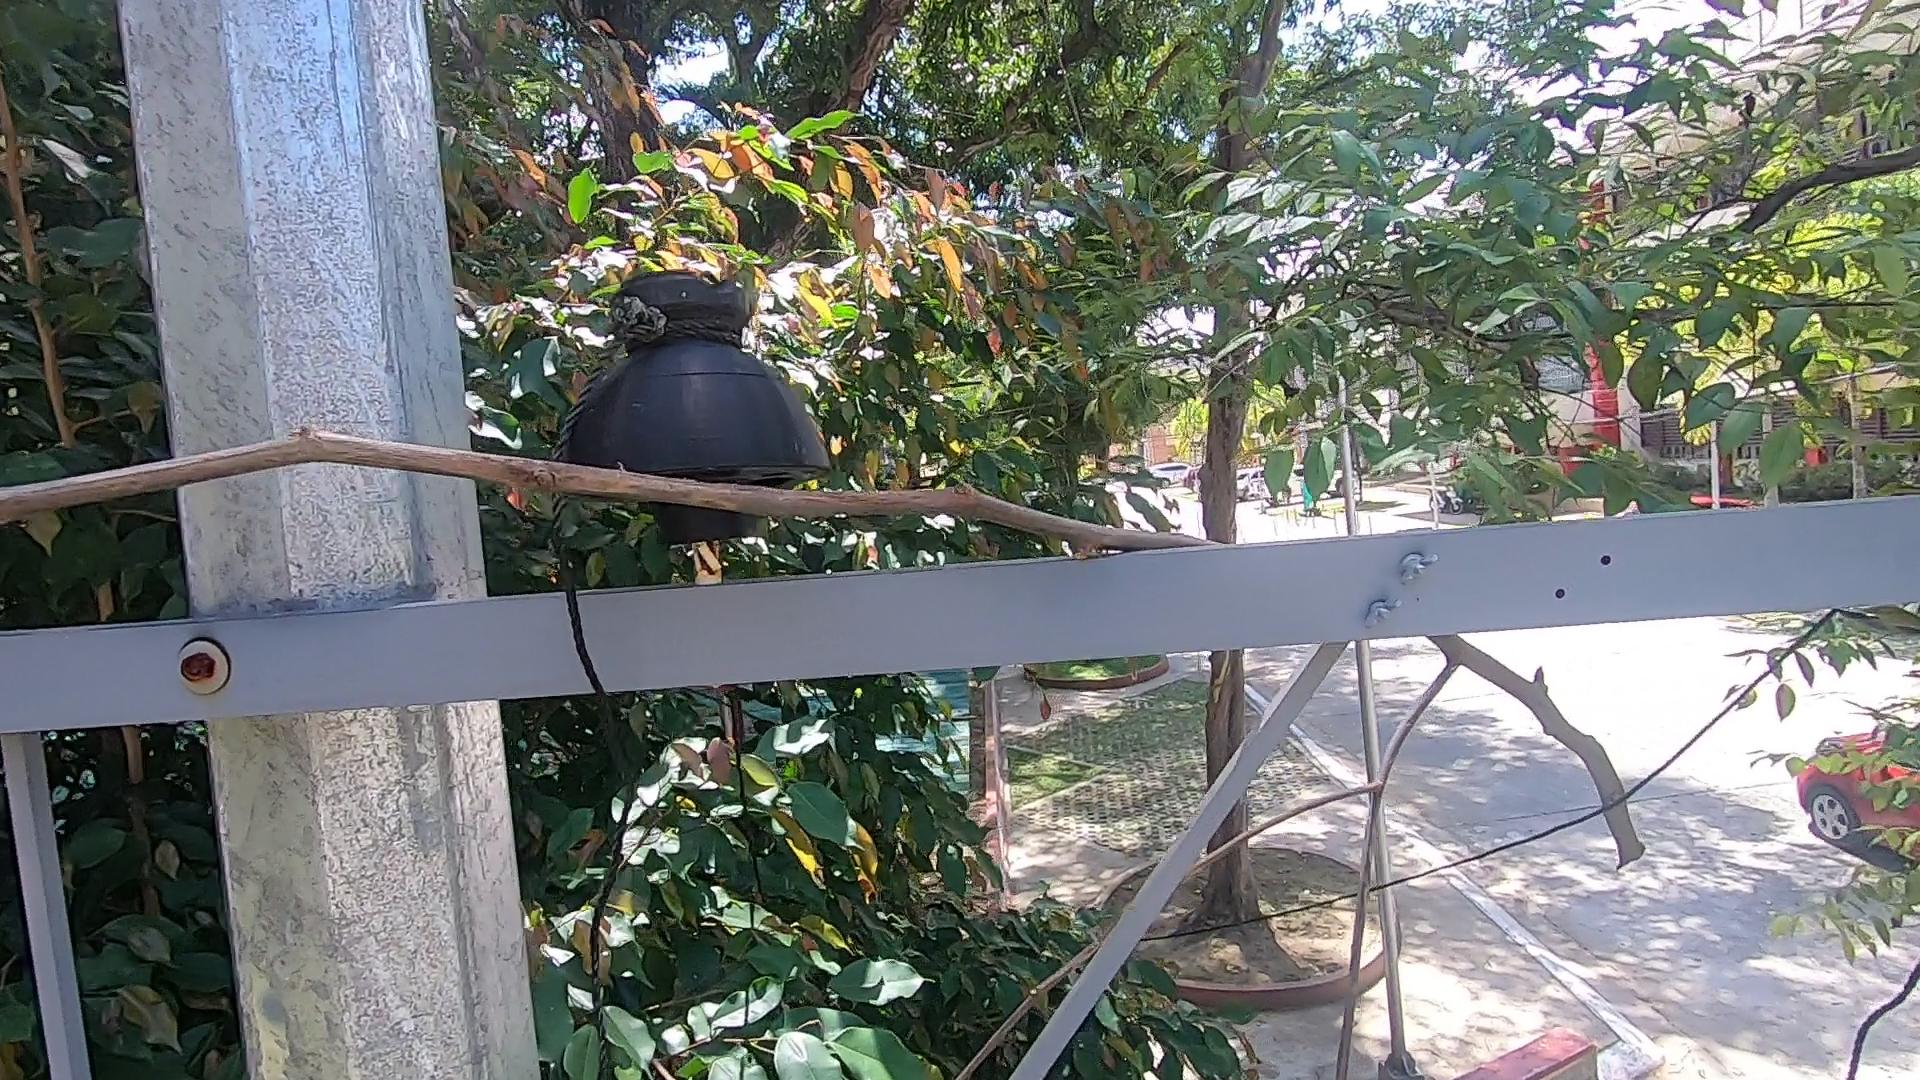tree branch: (945, 644, 1706, 1075), (1, 431, 1270, 615)
